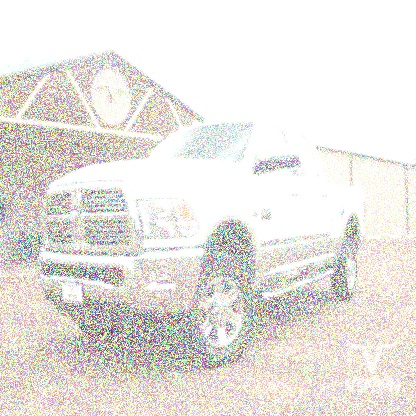Vehicle: (35, 111, 367, 364)
